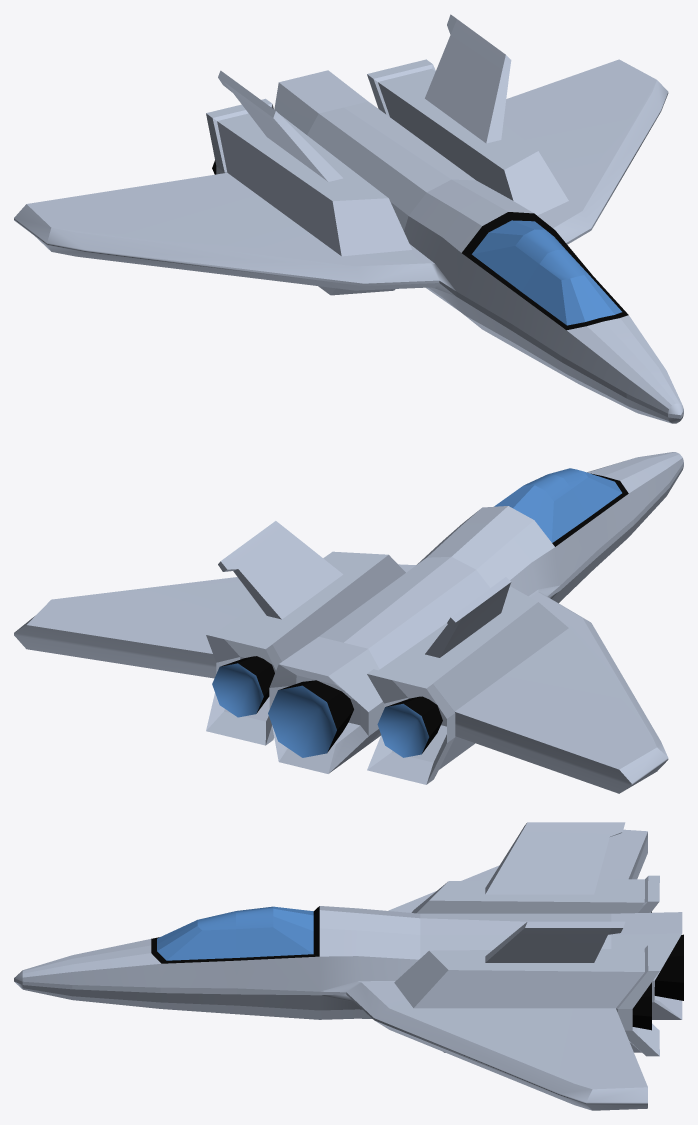
Rendered from sentouki_plt.fbx.
3 renders of one model, top to bottom at view 1: azimuth 30°, elevation 25°; view 2: azimuth 150°, elevation 25°; view 3: azimuth 270°, elevation 25°, orthographic. The views are drawn at different scales.
Parts seen in each view (by area): view 1: pCylinder8; view 2: pCylinder8; view 3: pCylinder8.
Part boxes in pixels (left/top/right/bottom): pCylinder8: left=14, top=14, right=683, bottom=423; pCylinder8: left=14, top=452, right=683, bottom=793; pCylinder8: left=14, top=822, right=683, bottom=1110.
Bounding box in the file's own units: 12.75 × 3.18 × 13.45.
